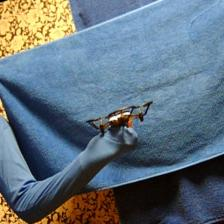drone: (86, 100, 152, 135)
